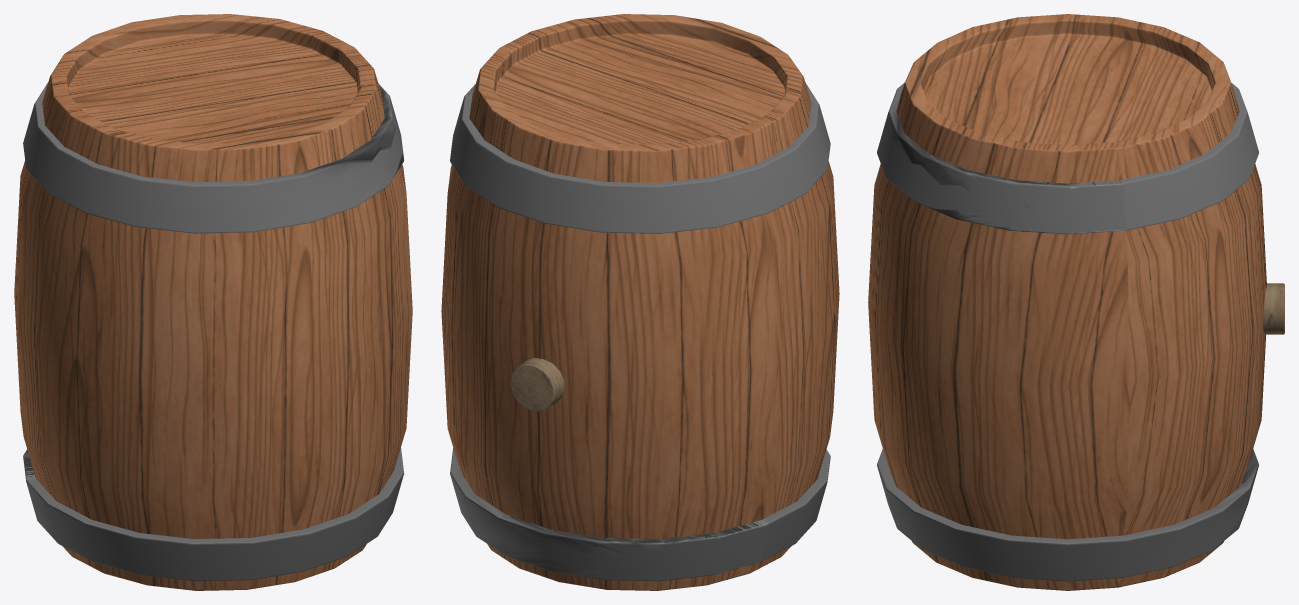
The model's file is arbolito doble.fbx.
3 views of the same model, side by side, from view 1: azimuth 30°, elevation 25°; view 2: azimuth 150°, elevation 25°; view 3: azimuth 270°, elevation 25° (orthographic).
Parts seen in each view (by area): view 1: barril.002; view 2: barril.002; view 3: barril.002.
Part boxes in pixels (x1,y1,x2,y2): barril.002: (14, 14, 412, 590); barril.002: (441, 14, 839, 590); barril.002: (868, 14, 1284, 590).
Size of the model in its own units: 334 by 406 by 348.
